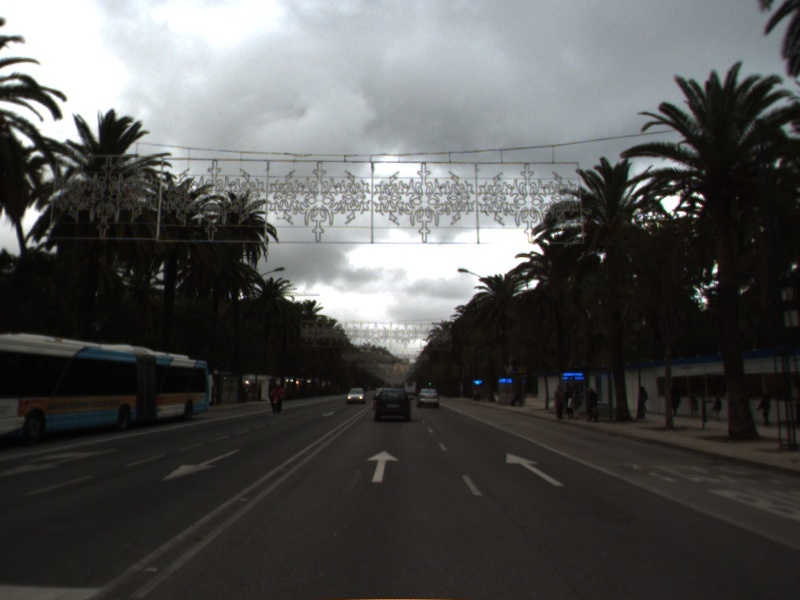STRAIGHT: (504, 451, 566, 488), (364, 448, 401, 484)
